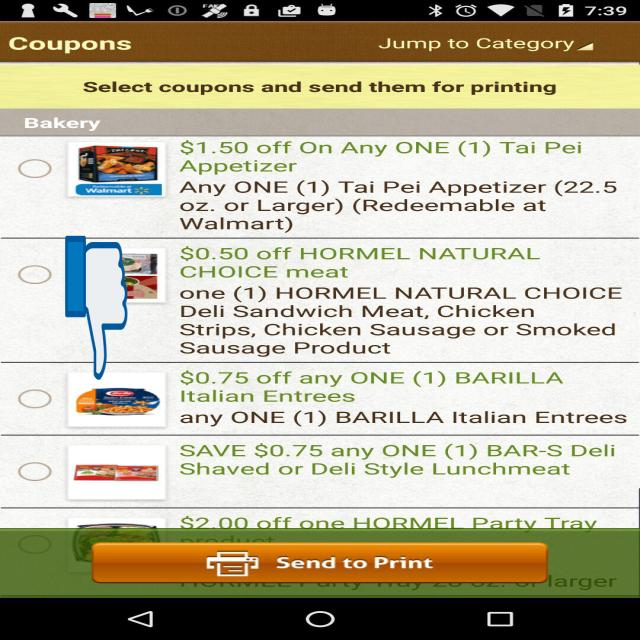obstruction: (66, 233, 128, 383)
